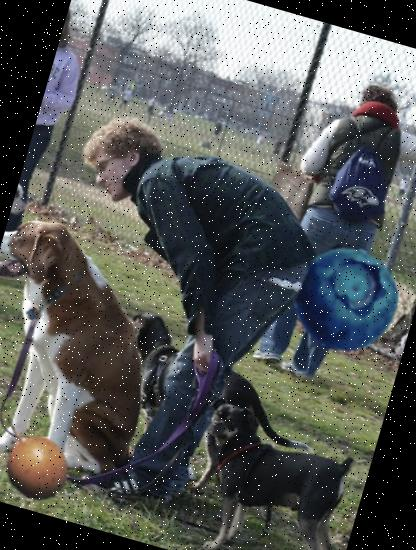Granadilla: (0, 400, 88, 515)
Huckleberry: (283, 235, 412, 364)
